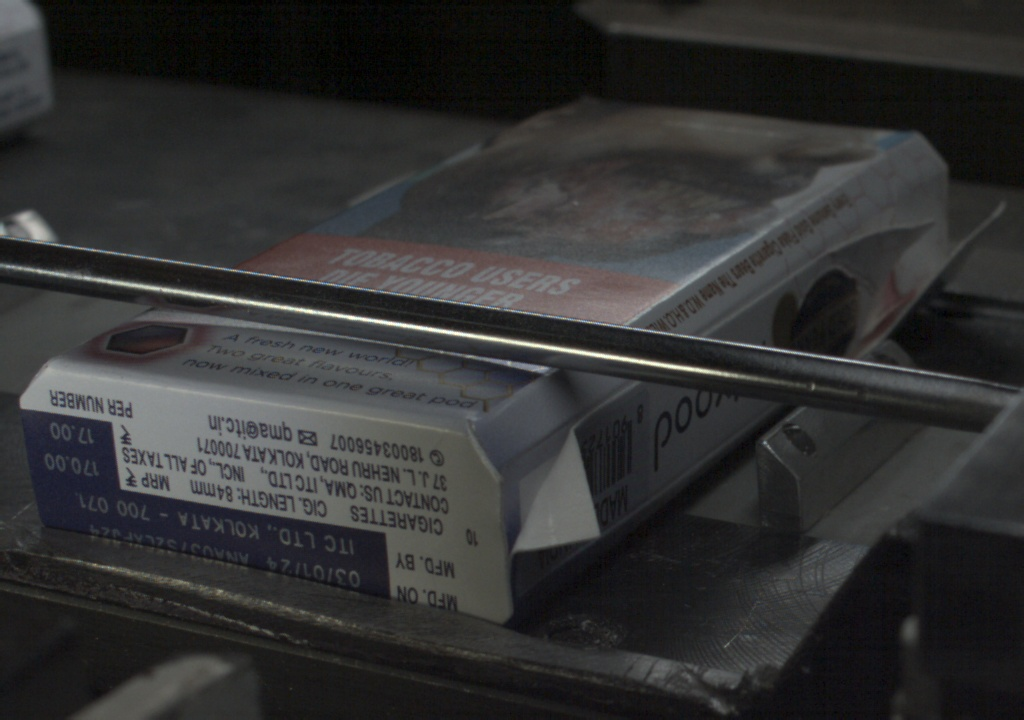g_bottom: (20, 360, 498, 629)
g_label: (41, 493, 403, 600)
g_lmiter: (707, 267, 808, 334)
ng_lmiter: (500, 417, 604, 554), (839, 213, 930, 261)
ng_miter: (924, 157, 998, 274)
price: (18, 418, 115, 492)
